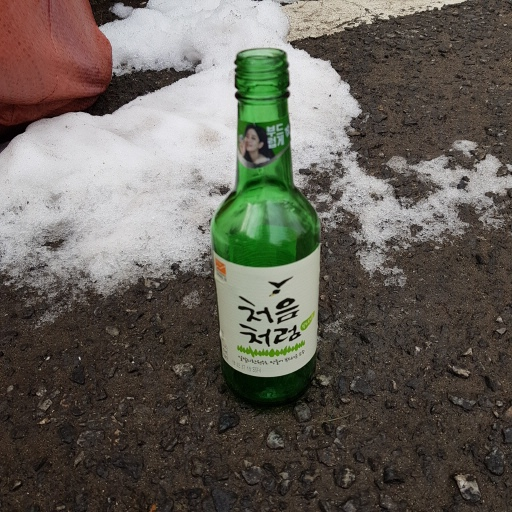Glass_0: (205, 45, 328, 409)
